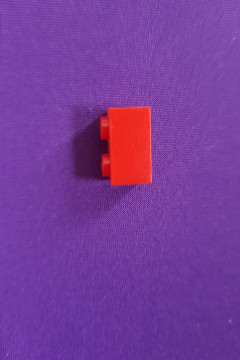1x2 red: (97, 106, 155, 187)
